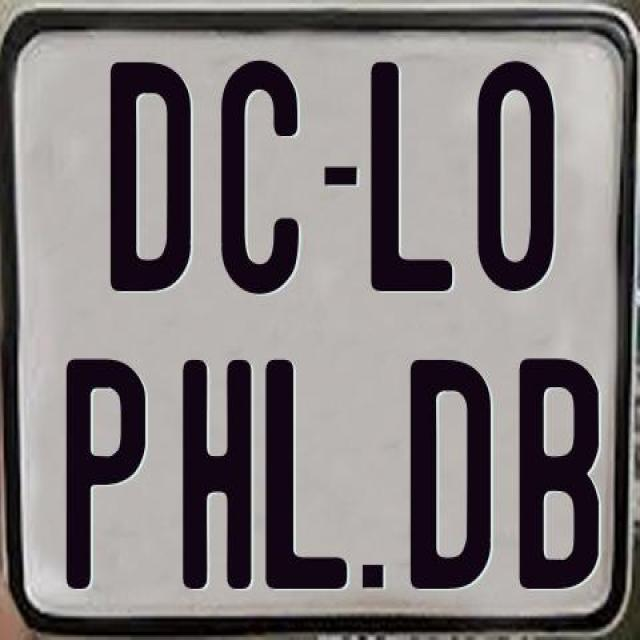0: (477, 56, 560, 293)
B: (516, 357, 602, 597)
C: (217, 58, 303, 299)
D: (106, 59, 194, 296), (411, 360, 498, 590)
H: (181, 357, 256, 592)
L: (370, 61, 454, 300), (261, 357, 343, 587)
P: (62, 358, 150, 597)
